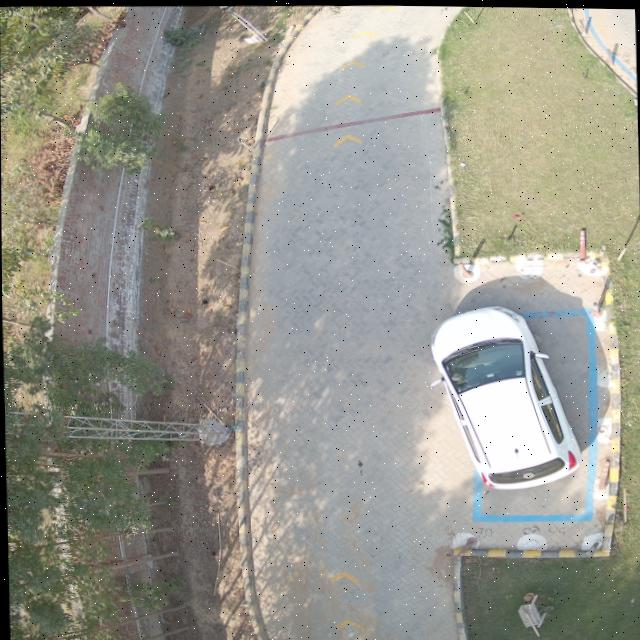car: (489, 455, 563, 480)
